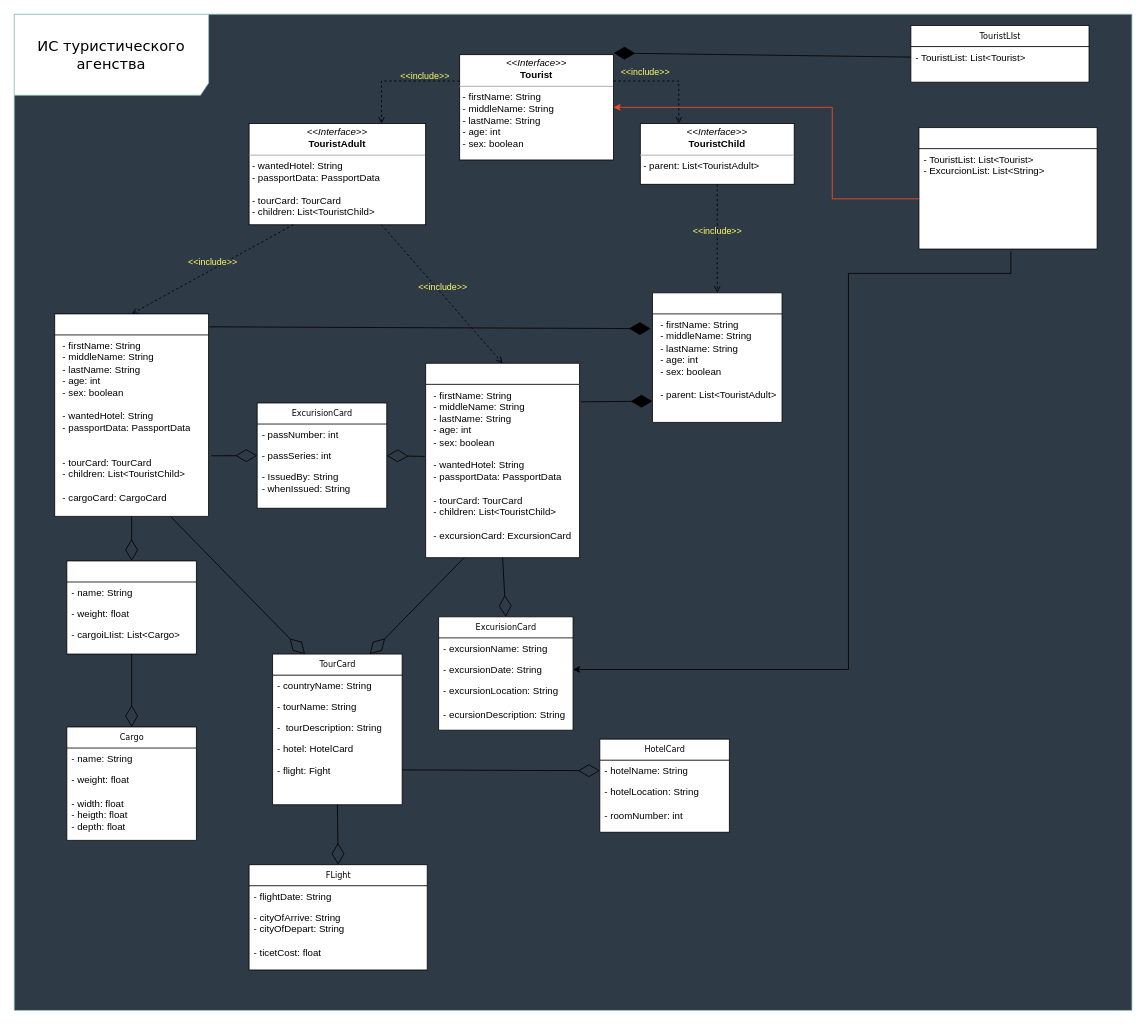
This 1146x1025 diagram has some shape labels left out. The box of each missing label's shape, as (x1, y1, x2, y2) in pixels:
CargoCard: (66, 560, 196, 654)
ExcurcionManager: (918, 127, 1097, 249)
TouristChildImpl: (652, 292, 782, 422)
TouristHolidaymaker: (425, 362, 580, 558)
TouristTransporter: (54, 313, 209, 516)
